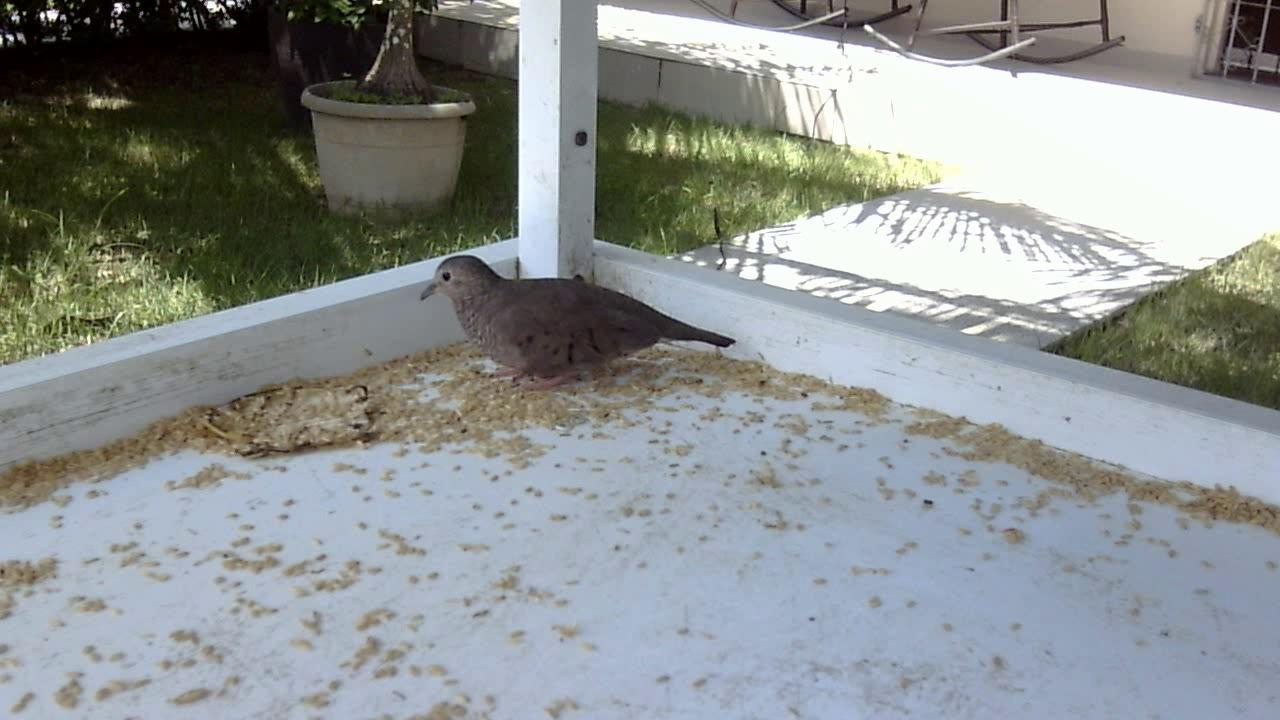rolinha: (414, 250, 737, 398)
